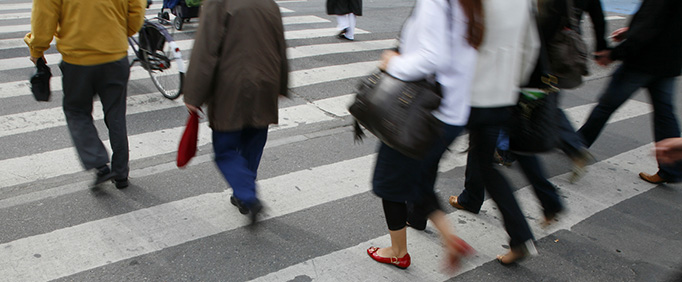pedestrian: (342, 1, 483, 276), (171, 1, 303, 235), (22, 1, 148, 196)
